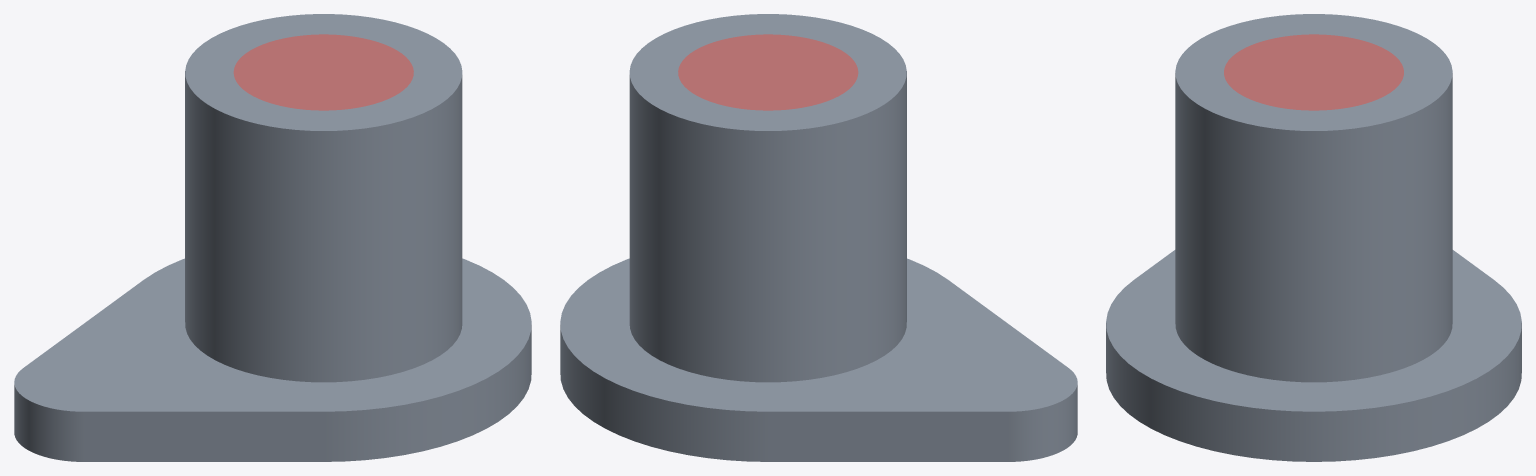
Rendered from step_04.glb.
3 views of the same model, side by side, from view 1: azimuth 30°, elevation 25°; view 2: azimuth 150°, elevation 25°; view 3: azimuth 270°, elevation 25° (orthographic).
Visible parts, largest first — view 1: part__slotted boss flange, removed__slotted boss flange; view 2: part__slotted boss flange, removed__slotted boss flange; view 3: part__slotted boss flange, removed__slotted boss flange.
Part boxes in pixels (bbox=[...]): part__slotted boss flange: bbox=[14, 14, 531, 461]; removed__slotted boss flange: bbox=[233, 34, 413, 110]; part__slotted boss flange: bbox=[560, 14, 1077, 461]; removed__slotted boss flange: bbox=[678, 34, 858, 110]; part__slotted boss flange: bbox=[1106, 14, 1521, 461]; removed__slotted boss flange: bbox=[1224, 34, 1403, 110].
Bounding box in the file's own units: 79.99 × 48 × 59.98.
